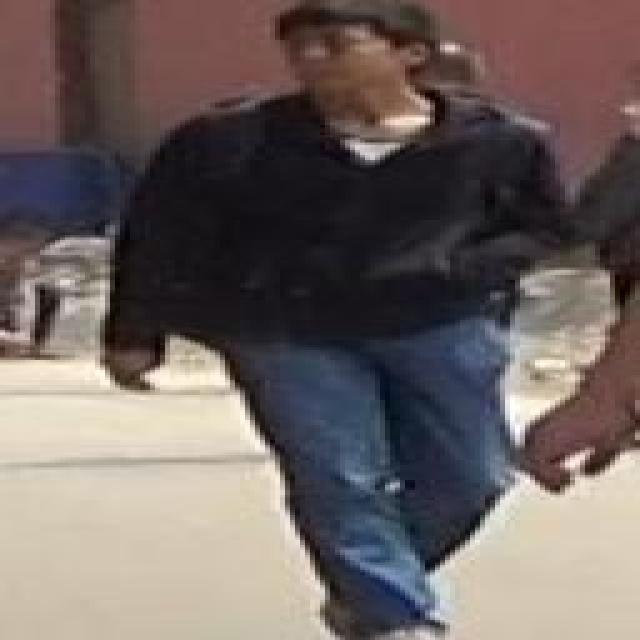adult: (98, 0, 520, 640)
